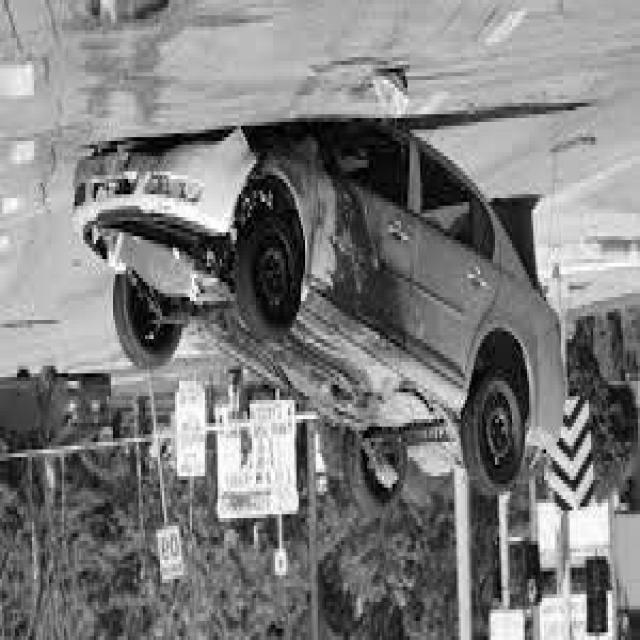severe: (65, 107, 571, 522)
